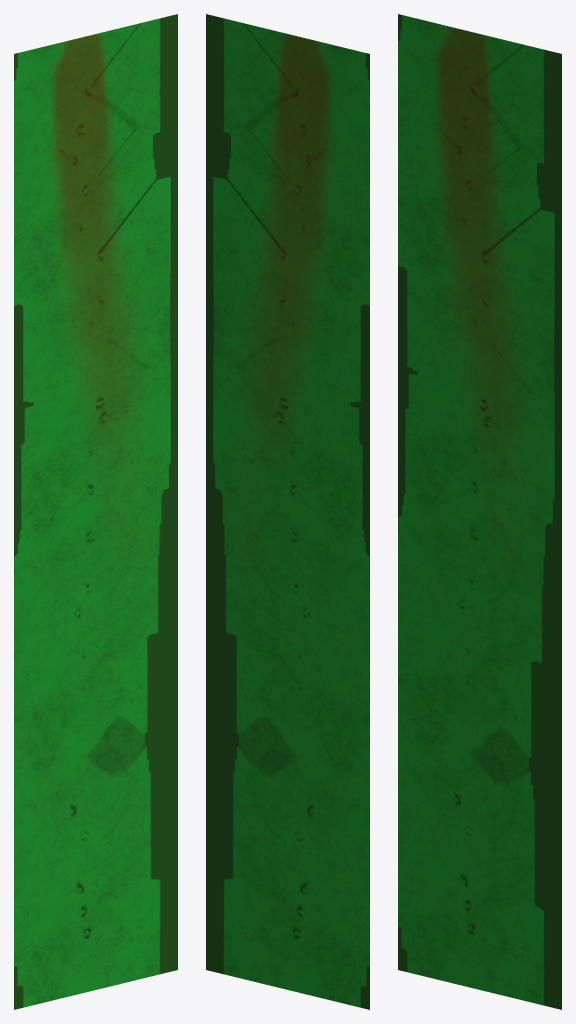
File: Cipo_02.fbx
3 renders of one model, left to right at view 1: azimuth 30°, elevation 25°; view 2: azimuth 150°, elevation 25°; view 3: azimuth 330°, elevation 25°, orthographic.
Parts seen in each view (by area): view 1: pPlane26; view 2: pPlane26; view 3: pPlane26.
Boxes of the visible parts, x1,y1,x2,y2 form: pPlane26: (14, 14, 177, 1009); pPlane26: (206, 14, 369, 1009); pPlane26: (398, 14, 561, 1009).
Size of the model in its own units: 2.69 by 15 by 0.
